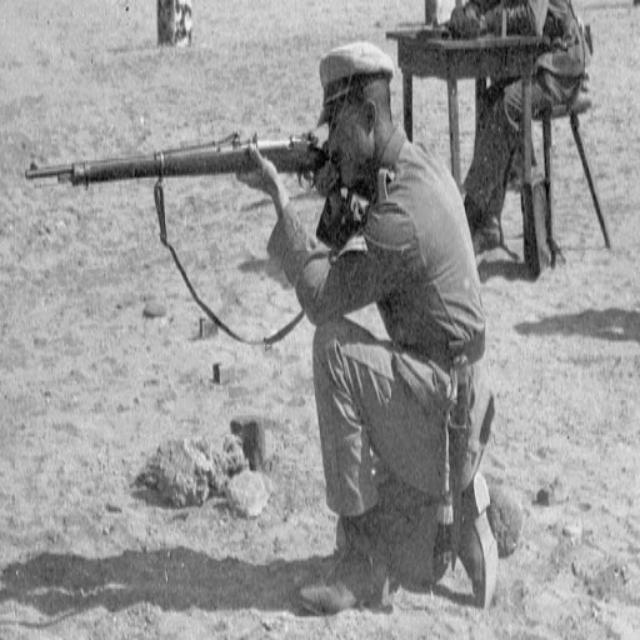other: (263, 50, 495, 606)
